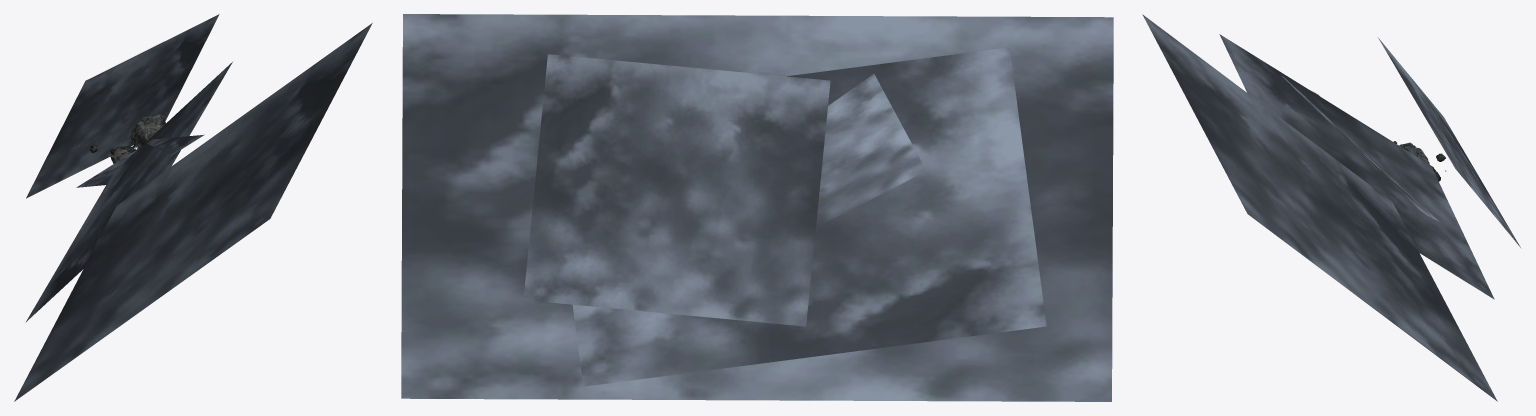
File: env_space_kafrene_01_pre.glb
3 views of the same model, side by side, from view 1: azimuth 30°, elevation 25°; view 2: azimuth 150°, elevation 25°; view 3: azimuth 270°, elevation 25° (orthographic). The views are drawn at different scales.
Visible parts, largest first — view 1: GameObject (2), GameObject, GameObject (3), light fog, kaf_planet_pre; view 2: GameObject (2), GameObject, GameObject (3), light fog; view 3: GameObject (2), GameObject (3), GameObject, light fog.
Part boxes in pixels (left/top/right/bottom): GameObject (2): left=14, top=23, right=372, bottom=401; GameObject: left=26, top=14, right=219, bottom=198; GameObject (3): left=26, top=62, right=232, bottom=321; light fog: left=76, top=134, right=204, bottom=187; kaf_planet_pre: left=110, top=114, right=165, bottom=163; GameObject (2): left=401, top=14, right=1113, bottom=401; GameObject: left=523, top=54, right=830, bottom=326; GameObject (3): left=572, top=47, right=1046, bottom=386; light fog: left=816, top=65, right=926, bottom=227; GameObject (2): left=1142, top=14, right=1497, bottom=401; GameObject (3): left=1219, top=34, right=1494, bottom=299; GameObject: left=1378, top=37, right=1521, bottom=248; light fog: left=1282, top=76, right=1439, bottom=221.
Size of the model in its own units: 2996 by 1618 by 2257.
Materials: 7 (7 with a texture image).
